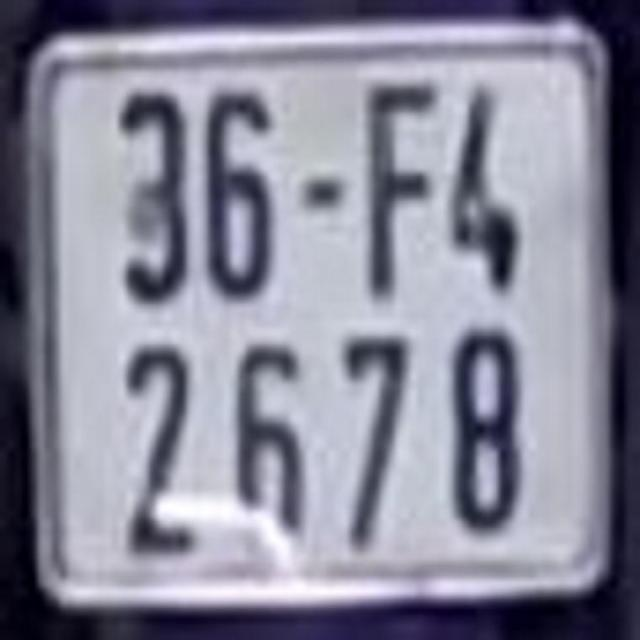2: (122, 344, 195, 549)
3: (114, 93, 193, 288)
4: (458, 88, 516, 297)
6: (236, 339, 306, 559), (205, 91, 276, 304)
7: (346, 333, 410, 552)
8: (449, 327, 522, 538)
F: (364, 82, 440, 309)
